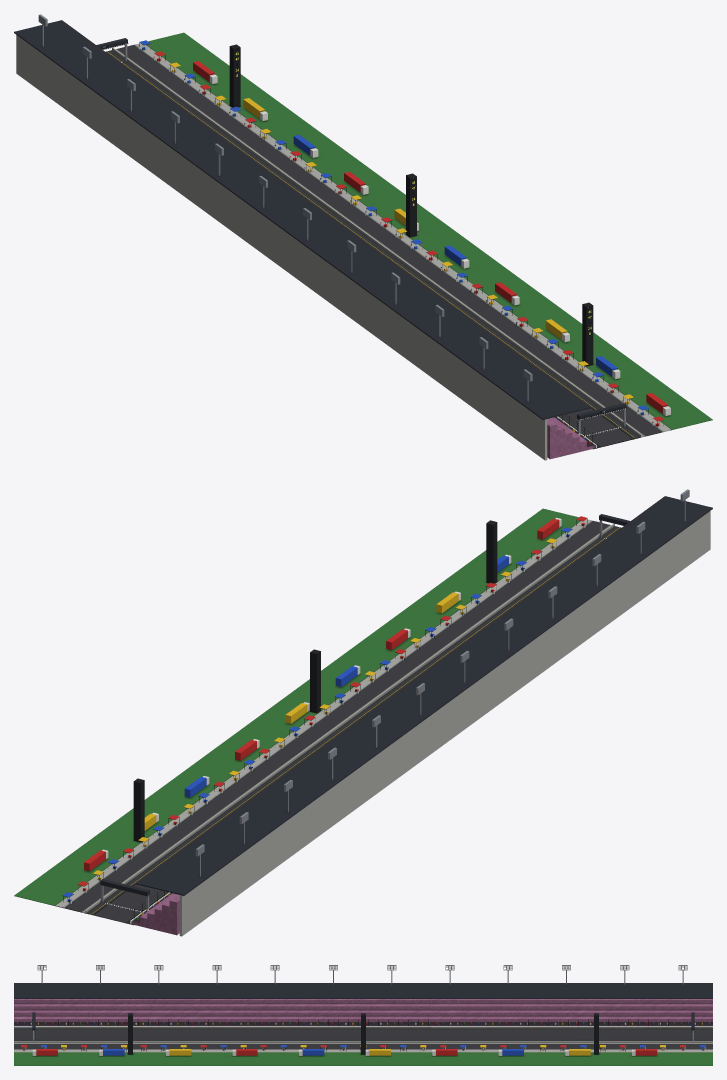
Rendered from speedway.glb.
3 views of the same model, one above another, from view 1: azimuth 30°, elevation 25°; view 2: azimuth 150°, elevation 25°; view 3: azimuth 270°, elevation 25° (orthographic). The views are drawn at different scales.
Visible parts, largest first — view 1: speedway; view 2: speedway; view 3: speedway.
Part boxes in pixels (x1,y1,x2,y2): speedway: (14,14,712,460); speedway: (14,489,712,936); speedway: (14,965,712,1065).
Bounding box in the file's own units: 78 × 31.72 × 420.
Materials: 1 (1 with a texture image).
